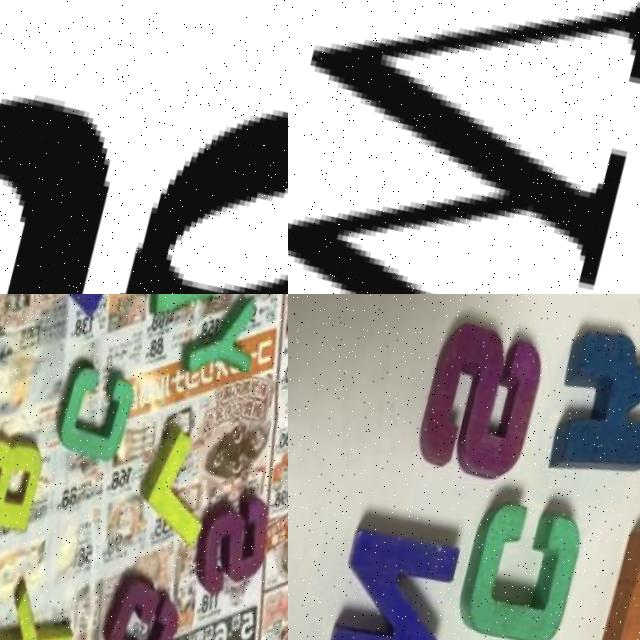B: (28, 294, 133, 327)
C: (450, 497, 586, 640), (43, 356, 140, 470)
E: (588, 536, 640, 640)
F: (140, 294, 238, 334)
G: (0, 0, 288, 294), (83, 575, 183, 640)
K: (532, 331, 640, 506)
L: (125, 421, 224, 554)
N: (315, 512, 468, 640)
R: (0, 434, 45, 544)
S: (403, 318, 553, 501), (187, 492, 276, 604)
W: (288, 0, 640, 294)
X: (0, 575, 76, 640)
Y: (174, 294, 261, 401)
